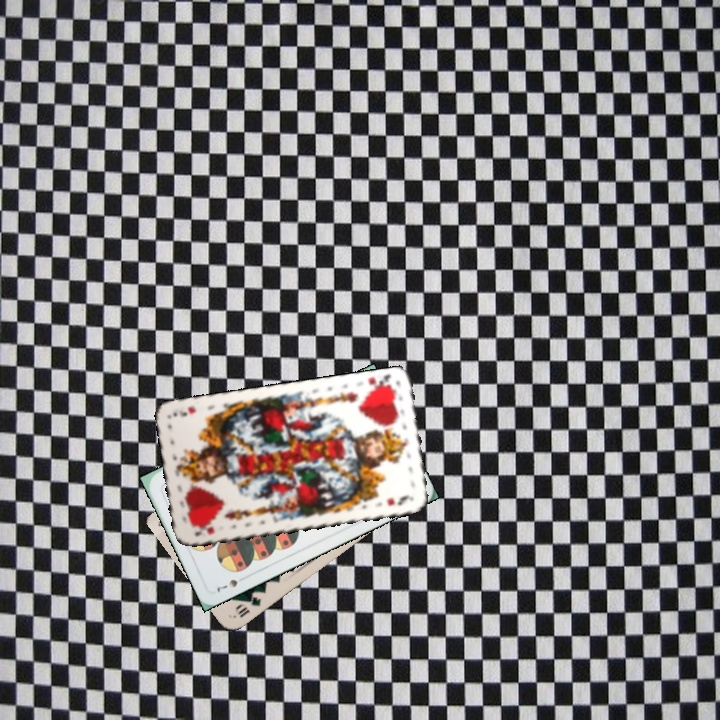G10: (231, 591, 264, 620)
HK: (362, 371, 395, 394), (191, 520, 217, 539)
S7: (213, 575, 240, 595)
